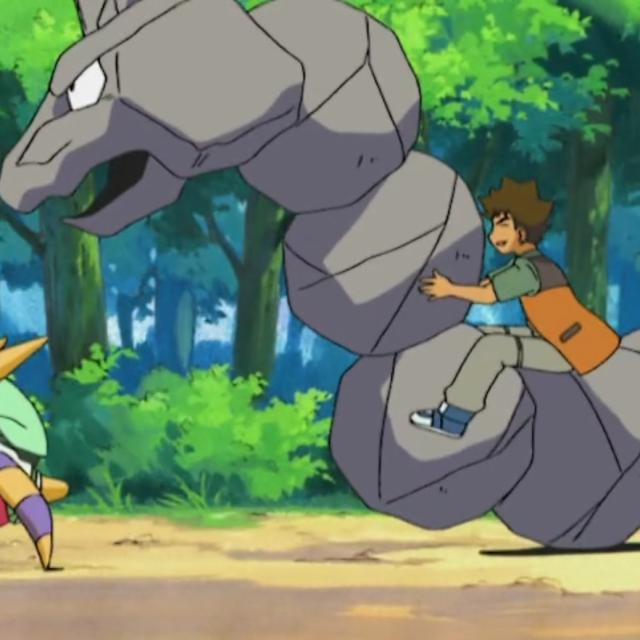Onix: (5, 6, 482, 326)
